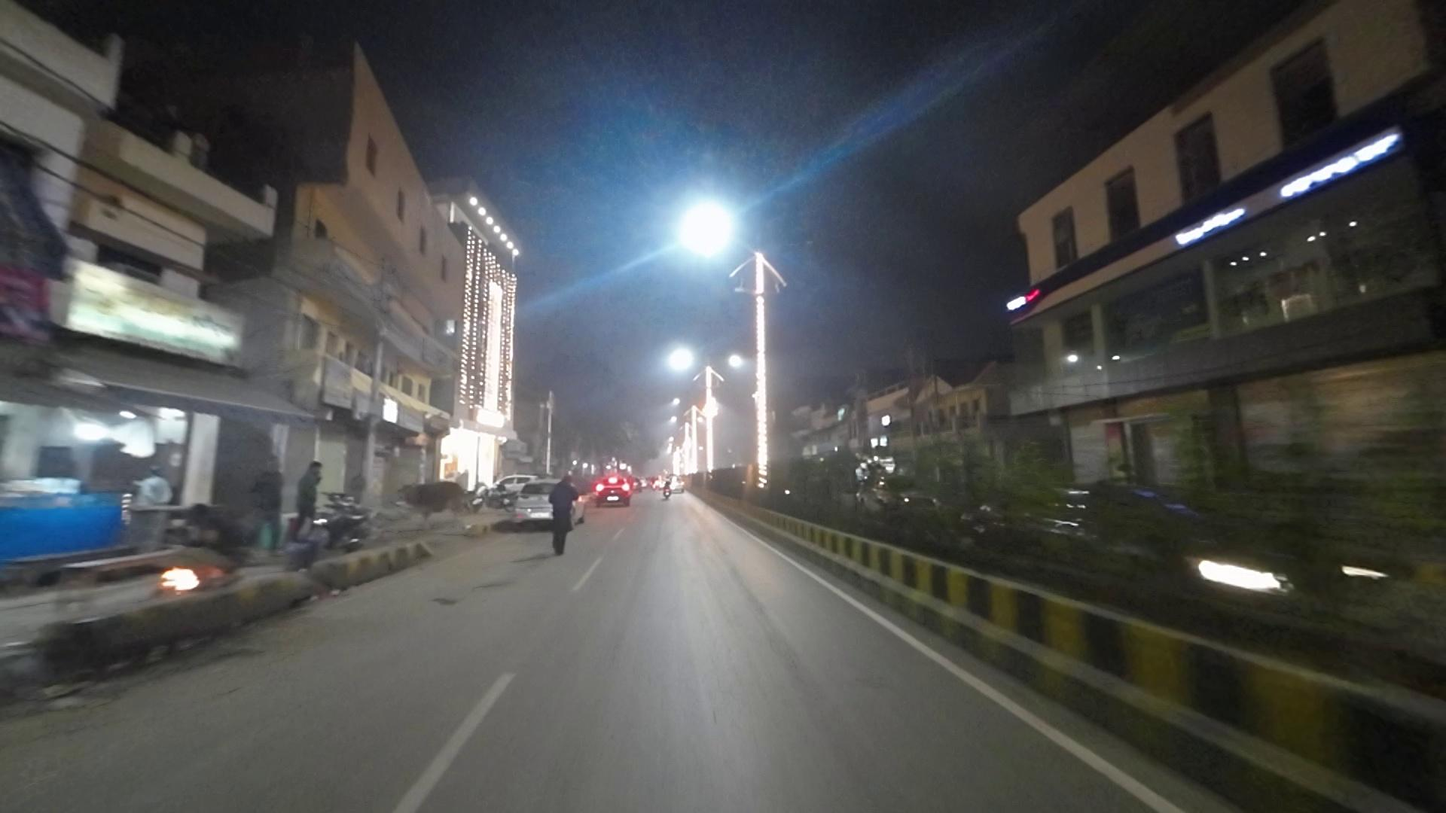streetlight: (764, 235, 818, 253)
